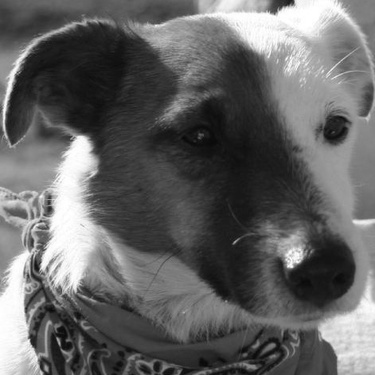dog: (3, 1, 371, 373)
